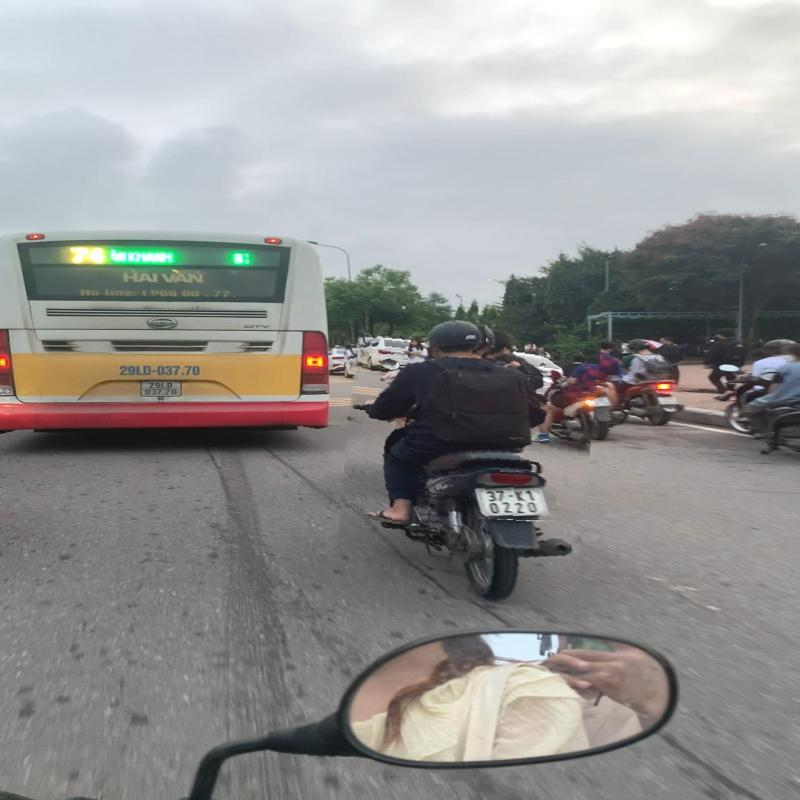helmet: (426, 318, 486, 357)
licenseplate: (470, 484, 556, 519)
motorcyclist: (338, 313, 595, 606)
